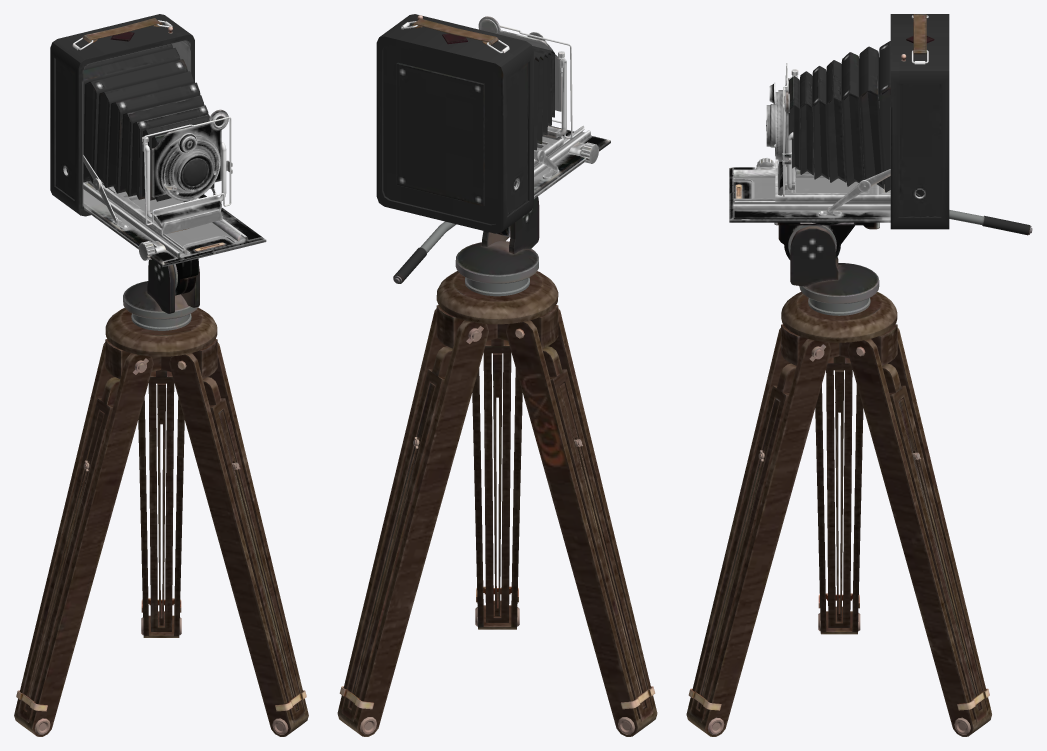
Rendered from splash-learn.glb.
The picture shows the model from 3 angles, left to right: view 1: azimuth 30°, elevation 25°; view 2: azimuth 150°, elevation 25°; view 3: azimuth 270°, elevation 25°; orthographic projection. The views are drawn at different scales.
Visible parts, largest first — view 1: tripod, camera; view 2: tripod, camera; view 3: tripod, camera.
Part boxes in pixels (bbox=[...]): tripod: bbox=[14, 258, 308, 736]; camera: bbox=[50, 14, 266, 266]; tripod: bbox=[337, 196, 657, 736]; camera: bbox=[376, 14, 610, 233]; tripod: bbox=[686, 210, 1032, 736]; camera: bbox=[729, 14, 949, 229].
Bounding box in the file's own units: 2.6 × 7.21 × 3.39.
2 materials, 2 textured.
